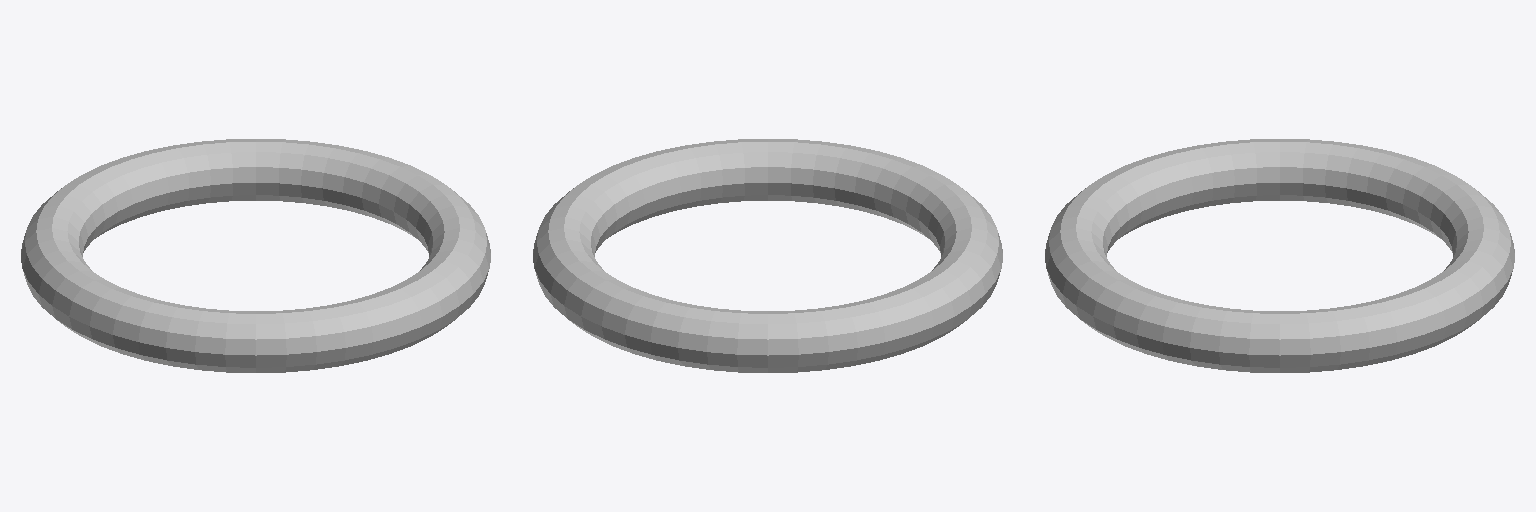
The model's file is halo.obj.
3 renders of one model, left to right at view 1: azimuth 30°, elevation 25°; view 2: azimuth 150°, elevation 25°; view 3: azimuth 270°, elevation 25°, orthographic.
Visible parts, largest first — view 1: Torus; view 2: Torus; view 3: Torus.
Boxes of the visible parts, box(x1,y1,x2,y2) form: Torus: box(21, 139, 490, 372); Torus: box(533, 139, 1002, 372); Torus: box(1045, 139, 1514, 372).
Size of the model in its own units: 11.55 by 1.53 by 11.55.